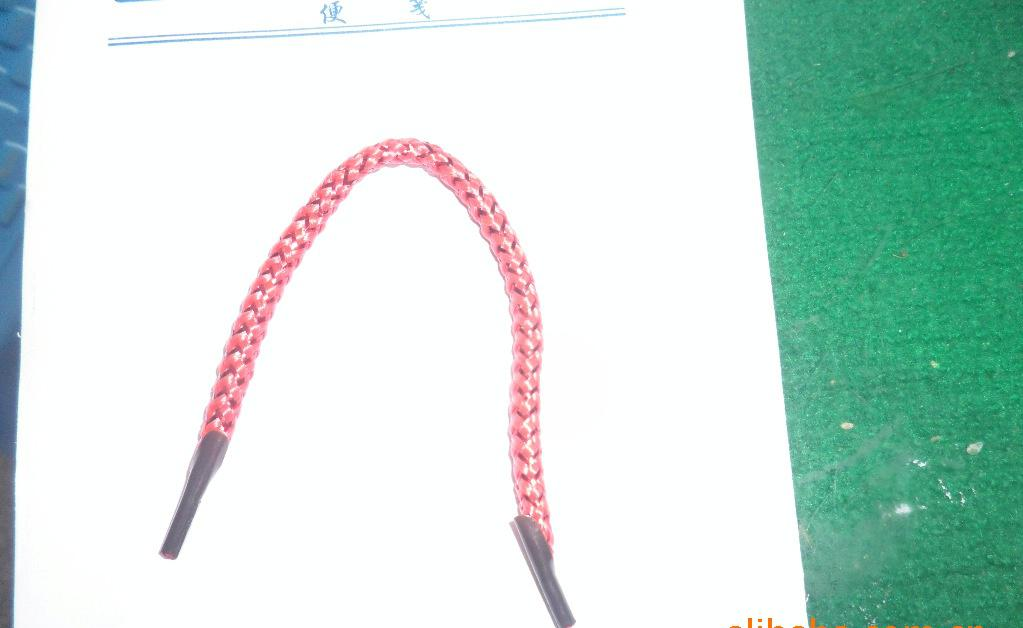9/可回收垃圾/绳子: (158, 136, 577, 628)
